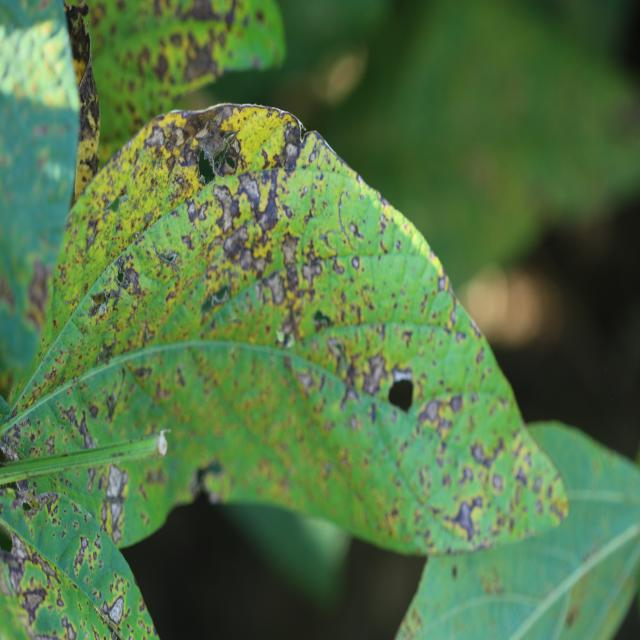Bacterial_Blight: (143, 117, 201, 171), (249, 172, 285, 234), (416, 394, 465, 439), (24, 257, 52, 328), (386, 502, 420, 554), (279, 232, 311, 278), (208, 183, 237, 233), (455, 495, 488, 536), (277, 304, 306, 348), (223, 222, 254, 263), (359, 353, 388, 396), (19, 587, 49, 626), (237, 174, 263, 215), (261, 269, 287, 305), (470, 440, 500, 469), (104, 463, 127, 499), (300, 255, 324, 289), (77, 409, 96, 449), (294, 363, 317, 395), (73, 535, 91, 574), (57, 401, 81, 430), (118, 262, 140, 293), (9, 534, 29, 568), (340, 379, 361, 408), (96, 338, 116, 366), (144, 125, 166, 149), (108, 498, 124, 531), (130, 365, 153, 386), (145, 465, 166, 487), (61, 614, 77, 640), (105, 390, 118, 421), (425, 400, 440, 422), (43, 364, 59, 383), (253, 256, 268, 276), (449, 393, 464, 413), (86, 466, 97, 491), (331, 257, 346, 275), (44, 435, 56, 455), (348, 414, 360, 432), (143, 210, 155, 226), (109, 283, 121, 299), (87, 404, 99, 419), (348, 221, 359, 235), (187, 202, 197, 217), (80, 535, 89, 550), (94, 534, 101, 550), (29, 431, 36, 444)
Soybean: (0, 104, 571, 640)
